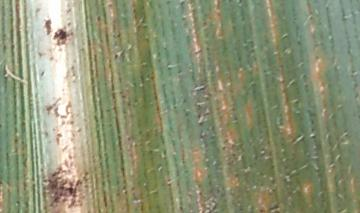tarspot: (41, 166, 81, 209), (196, 190, 220, 213), (45, 94, 62, 113), (52, 28, 68, 47), (42, 18, 52, 36), (64, 100, 73, 115), (54, 132, 63, 147), (267, 204, 280, 213), (52, 105, 60, 118), (258, 204, 266, 213), (35, 50, 45, 57), (34, 7, 41, 17), (115, 30, 121, 41), (75, 127, 83, 135), (64, 7, 73, 14), (39, 70, 46, 78), (47, 54, 54, 62), (220, 145, 227, 153), (105, 2, 113, 8), (95, 14, 101, 22), (69, 29, 74, 38), (64, 21, 71, 27), (59, 120, 66, 126), (113, 53, 118, 60), (69, 120, 74, 126)
